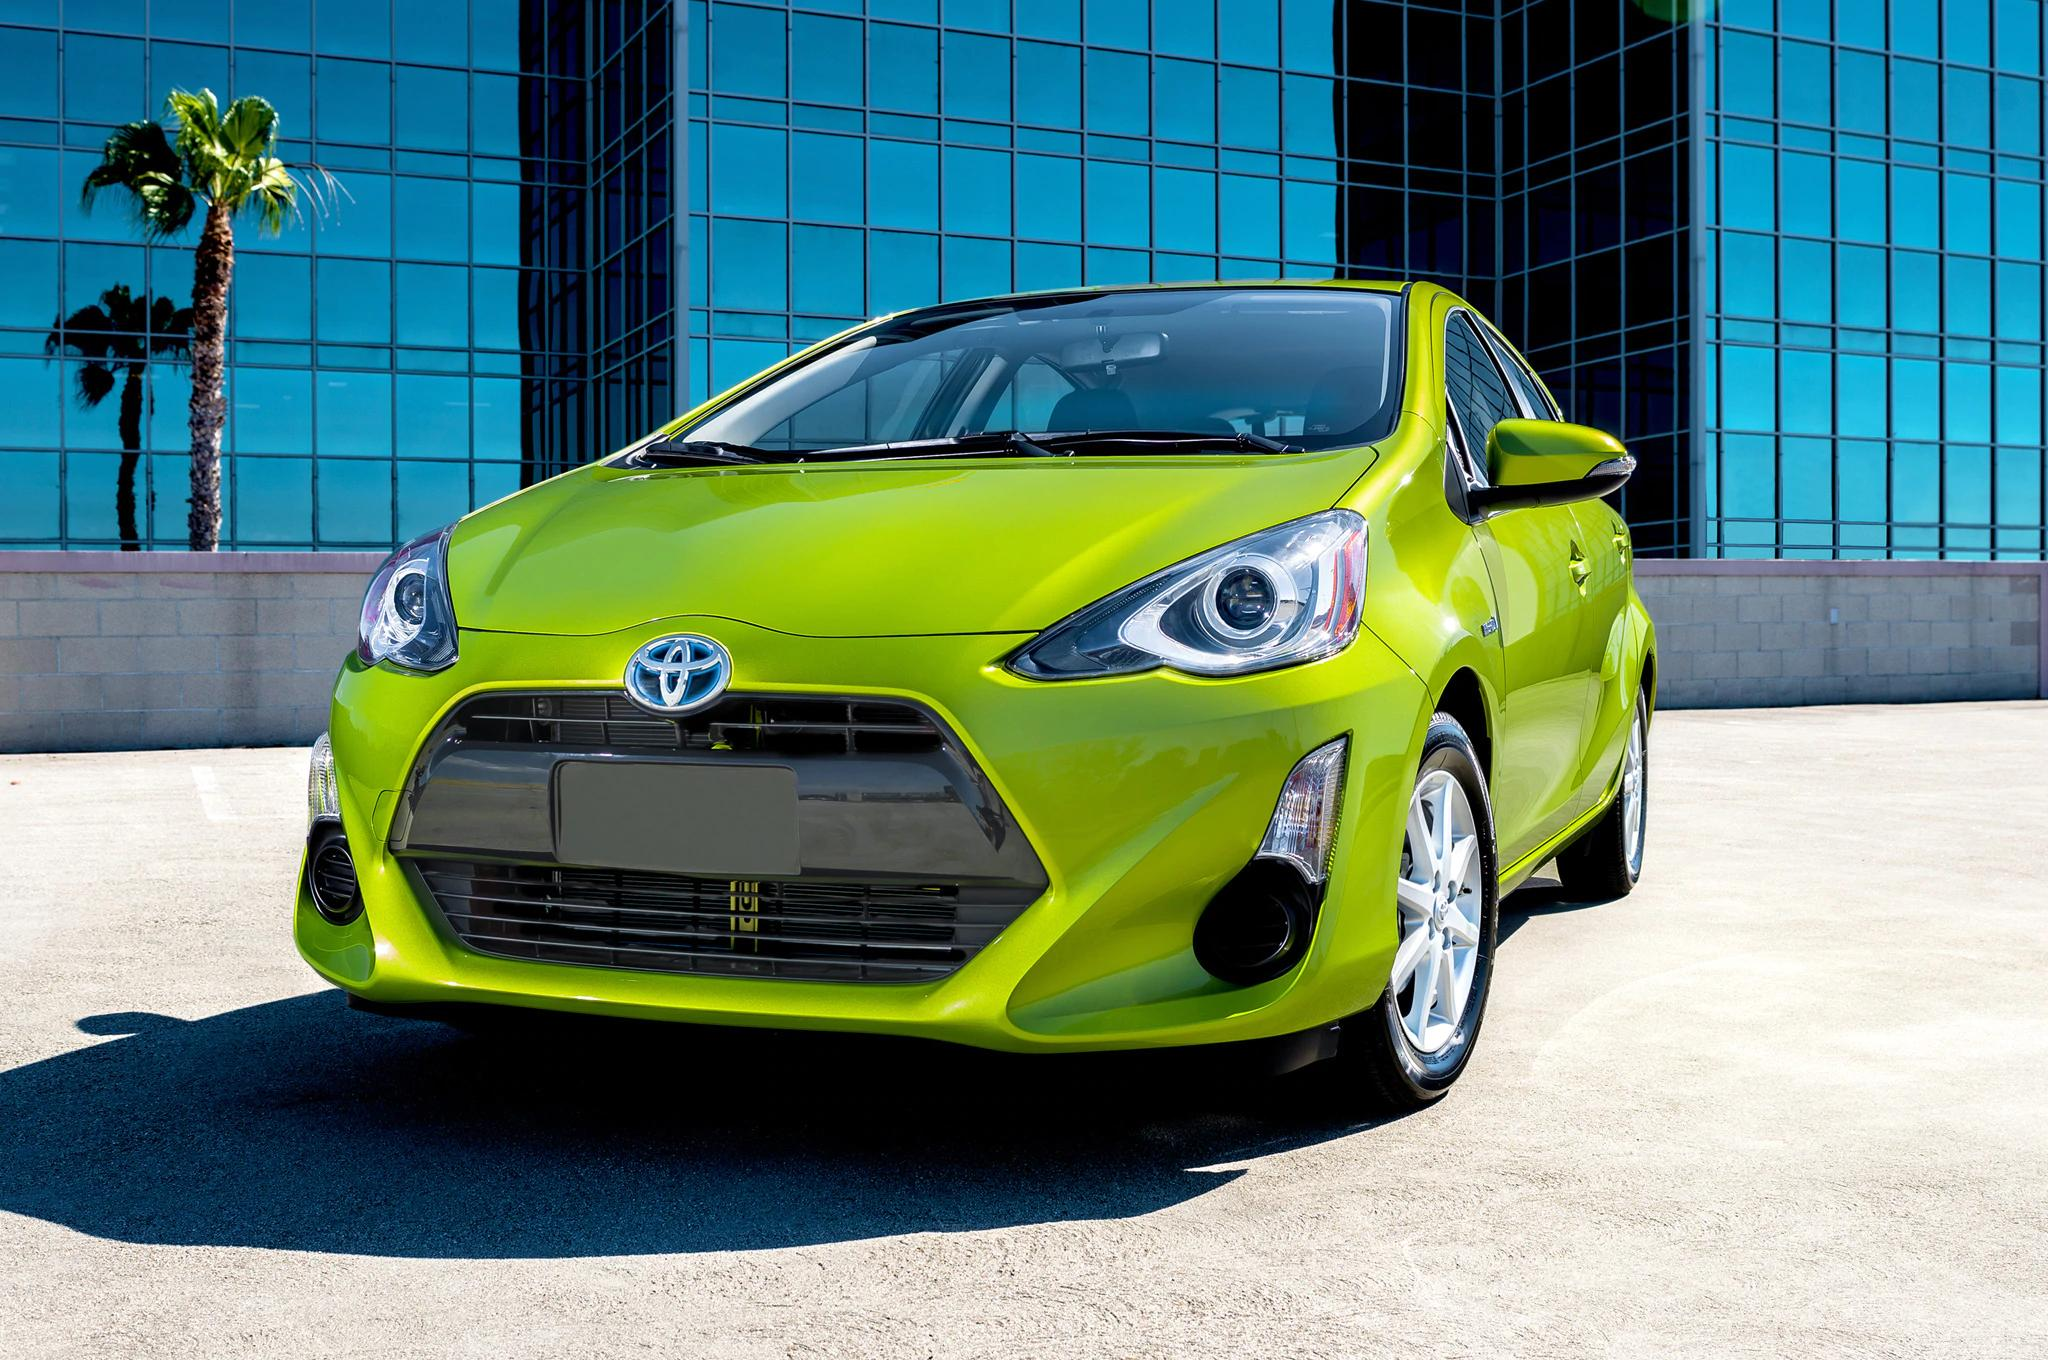Toyota Prius: (284, 270, 1670, 1117)
